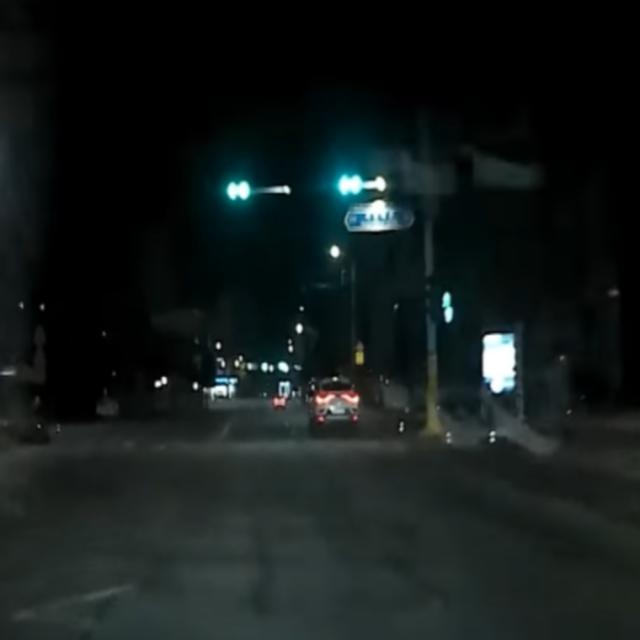Green Light: (350, 173, 362, 196), (238, 181, 250, 201)
